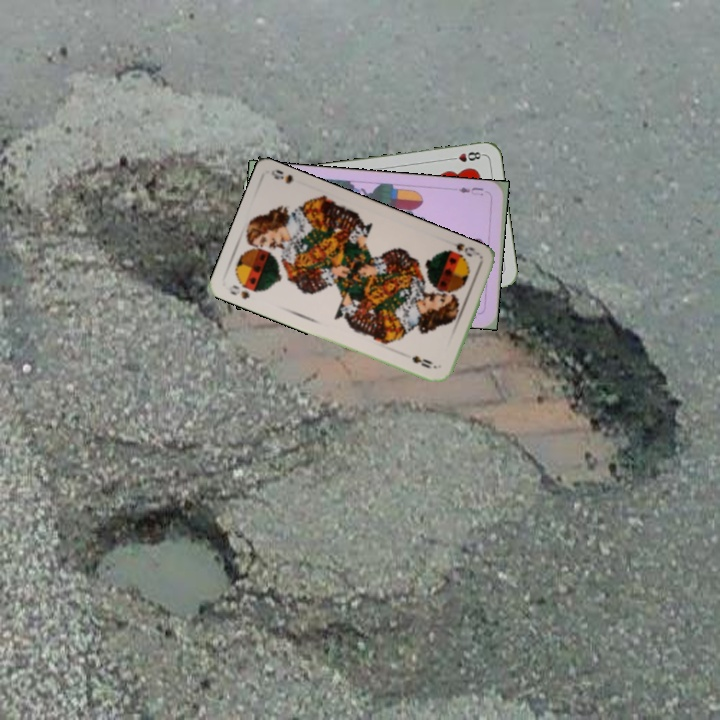EU: (455, 183, 486, 198)
H8: (445, 148, 485, 165)
SO: (441, 237, 483, 262), (226, 281, 252, 302)
